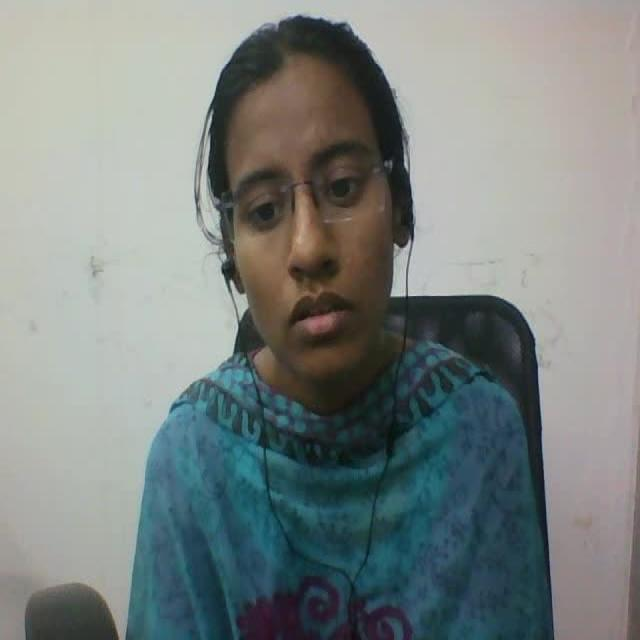Engaged: (184, 16, 440, 421)
